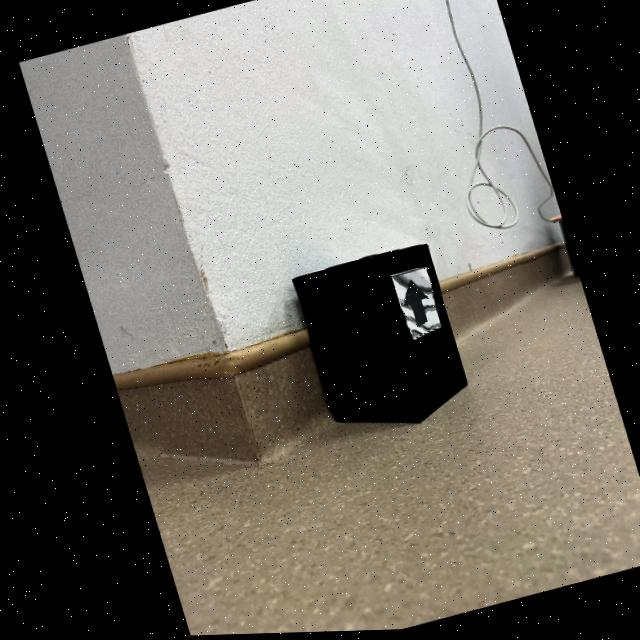UP: (400, 283, 423, 328)
